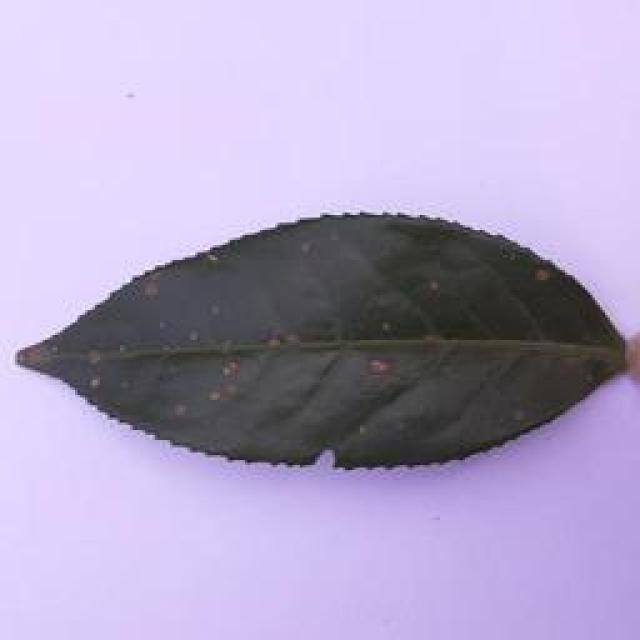Algal Leaf Spot: (14, 191, 640, 473)
